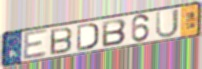6: (130, 13, 151, 44)
B: (101, 18, 128, 48), (49, 26, 74, 56)
D: (76, 22, 100, 53)
E: (22, 28, 49, 62)
U: (154, 8, 180, 40)
